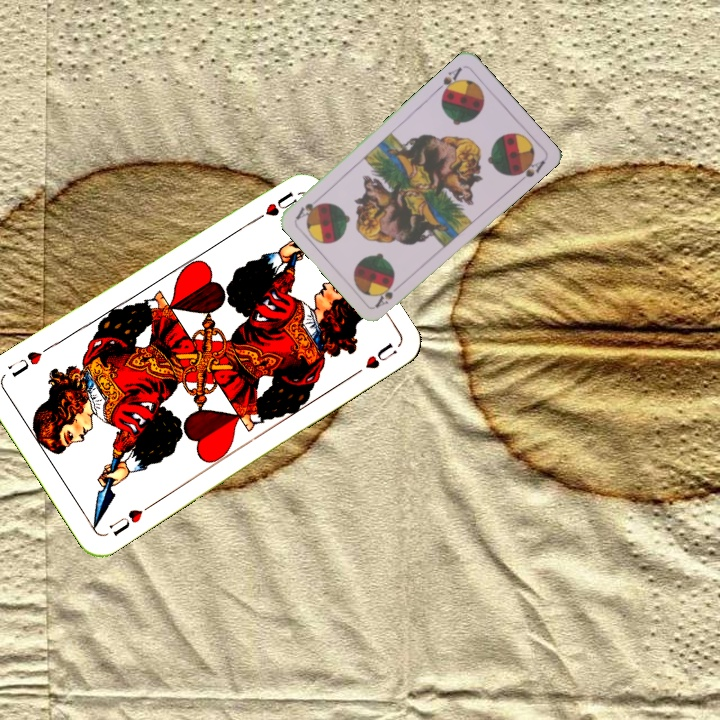HU: (246, 188, 300, 226), (105, 500, 155, 539)
SA: (432, 63, 465, 99), (371, 278, 405, 310)
